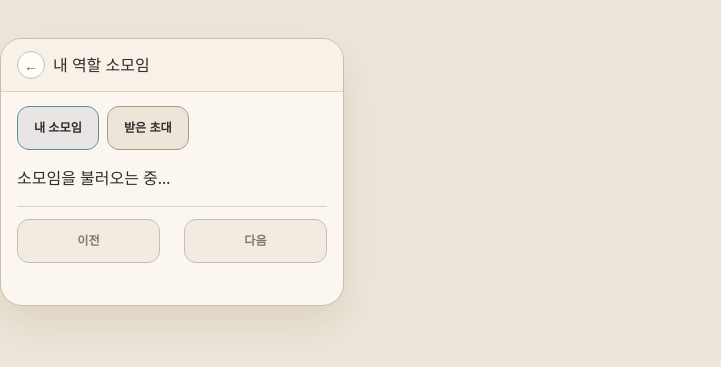
Test case: accepts an invitation and returns to the shared My Role Parties list
This screenshot has width=721, height=367.
Click the button "받은 초대" at coordinates (148, 128), box [107,106,189,150]
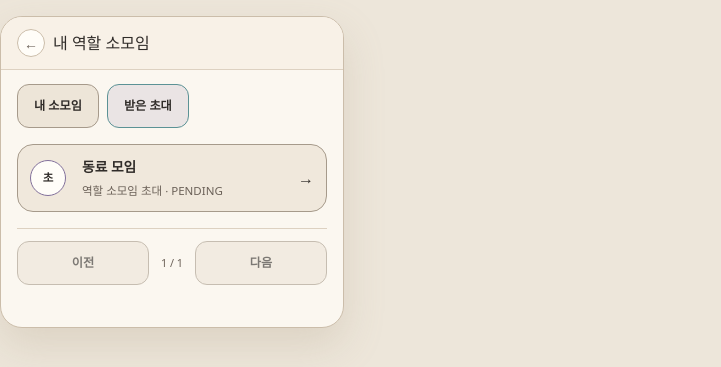
Click the button "초 동료 모임 역할 소모임 초대 · PENDING →" at coordinates (48, 178), box [17,144,327,212]
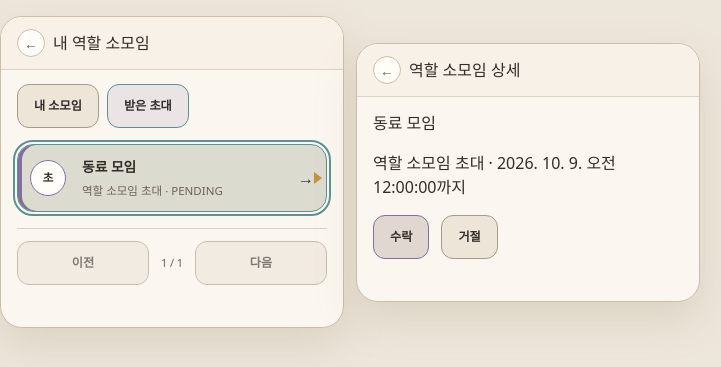
Click the button "수락" at coordinates (401, 236), box [373,214,429,258]
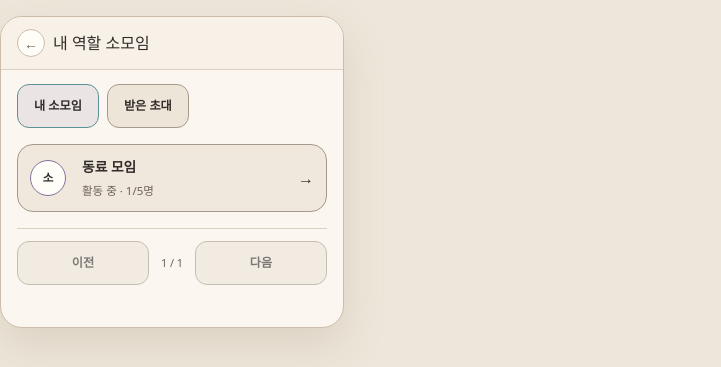
Check: the text "활동 중 · 1/5명" is shown, box [82,183,154,198]
